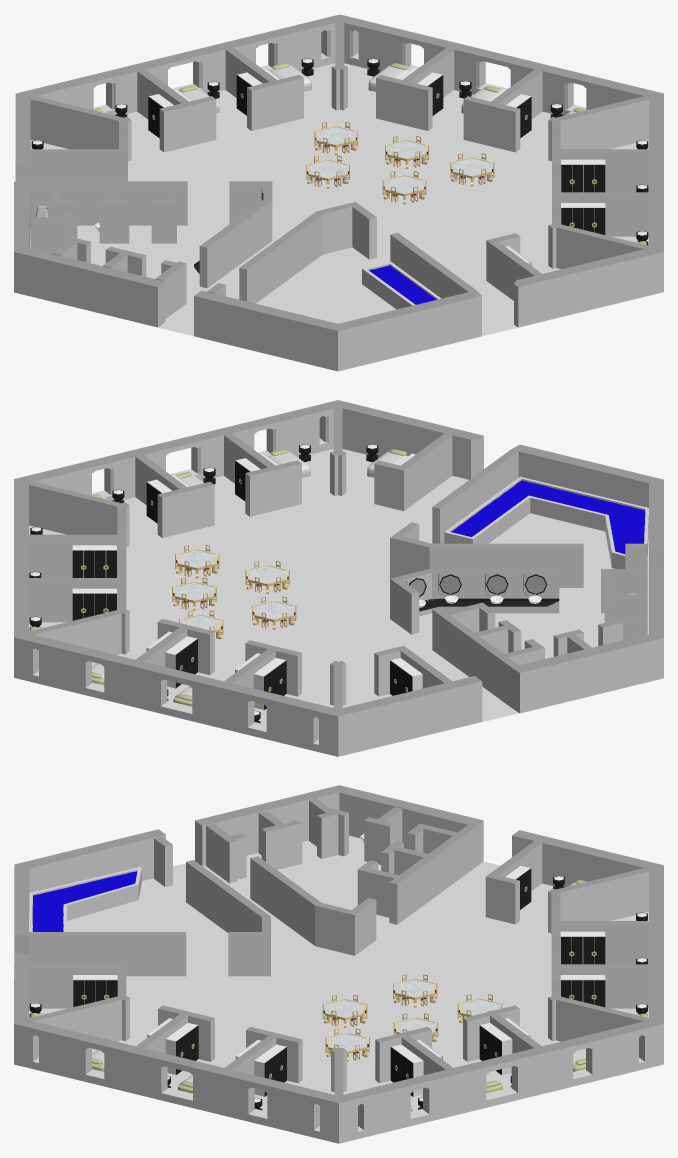
The model's file is ROOMS.fbx.
3 views of the same model, one above another, from view 1: azimuth 30°, elevation 25°; view 2: azimuth 150°, elevation 25°; view 3: azimuth 270°, elevation 25° (orthographic).
Visible parts, largest first — view 1: Wall_4.002, Plane.021, Plane.020, Cube.738, Objeto_3294.007, Plane.022, Objeto_3294.006, Plane.023, Objeto_3294.009, Objeto_3294.008, Objeto_3294.012, Objeto_3294.013; view 2: Wall_4.002, Plane.020, Plane.021, Cube.738, Plane.022, Plane.023, Objeto_3294.015, Objeto_3294.014, Objeto_3294.012, Objeto_3294.013, Wall_4.001, Objeto_3294.019 (+2 smaller); view 3: Wall_4.002, Plane.021, Plane.020, Cube.738, Plane.023, Plane.022, Objeto_3294.011, Objeto_3294.010, Objeto_3294.018, Objeto_3294.009, Objeto_3294.008, Objeto_3294.017 (+2 smaller).
Part boxes in pixels (x1,y1,x2,y2): Wall_4.002: [30, 21, 648, 318]; Plane.021: [15, 63, 648, 336]; Plane.020: [14, 14, 663, 371]; Cube.738: [306, 121, 494, 204]; Objeto_3294.007: [561, 159, 605, 192]; Plane.022: [362, 261, 440, 309]; Objeto_3294.006: [561, 203, 605, 234]; Plane.023: [369, 265, 436, 304]; Objeto_3294.009: [417, 72, 443, 115]; Objeto_3294.008: [506, 94, 531, 137]; Objeto_3294.012: [148, 94, 173, 137]; Objeto_3294.013: [236, 72, 262, 115]; Wall_4.002: [29, 407, 647, 708]; Plane.020: [14, 400, 663, 756]; Plane.021: [29, 449, 648, 748]; Cube.738: [172, 544, 296, 639]; Plane.022: [444, 476, 648, 568]; Plane.023: [451, 480, 645, 554]; Objeto_3294.015: [72, 545, 116, 577]; Objeto_3294.014: [72, 588, 117, 620]; Objeto_3294.012: [253, 658, 286, 710]; Objeto_3294.013: [165, 636, 197, 688]; Wall_4.001: [419, 598, 559, 611]; Objeto_3294.019: [390, 658, 422, 695]; Wall_4.002: [29, 798, 648, 1095]; Plane.021: [14, 835, 648, 1111]; Plane.020: [14, 785, 663, 1143]; Cube.738: [322, 974, 502, 1061]; Plane.023: [32, 871, 137, 931]; Plane.022: [29, 866, 141, 931]; Objeto_3294.011: [560, 931, 605, 964]; Objeto_3294.010: [560, 975, 605, 1007]; Objeto_3294.018: [73, 975, 117, 1007]; Objeto_3294.009: [479, 1023, 512, 1075]; Objeto_3294.008: [390, 1044, 423, 1096]; Objeto_3294.017: [165, 1023, 198, 1075].
Size of the model in its own units: 4357 by 5044 by 305.
Materials: 16 (2 with a texture image).
